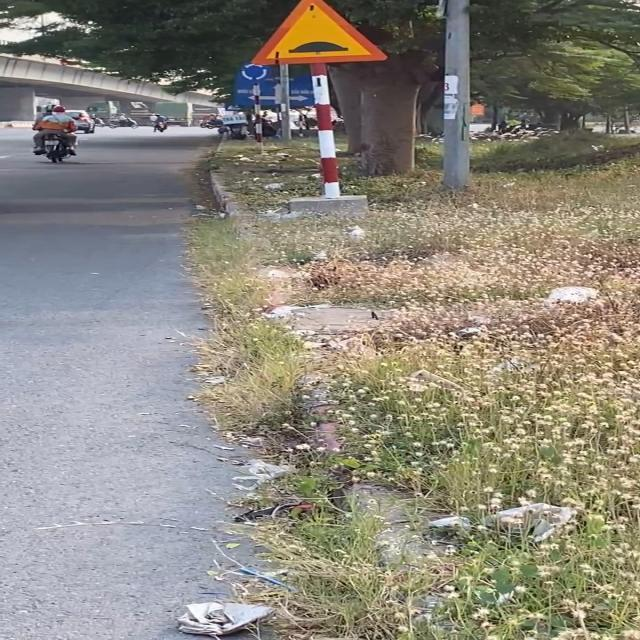221-duong-go-ghe: (250, 0, 392, 66)
303-noi-giao-nhau-chay-theo-vong-xuyen: (237, 60, 271, 83)
